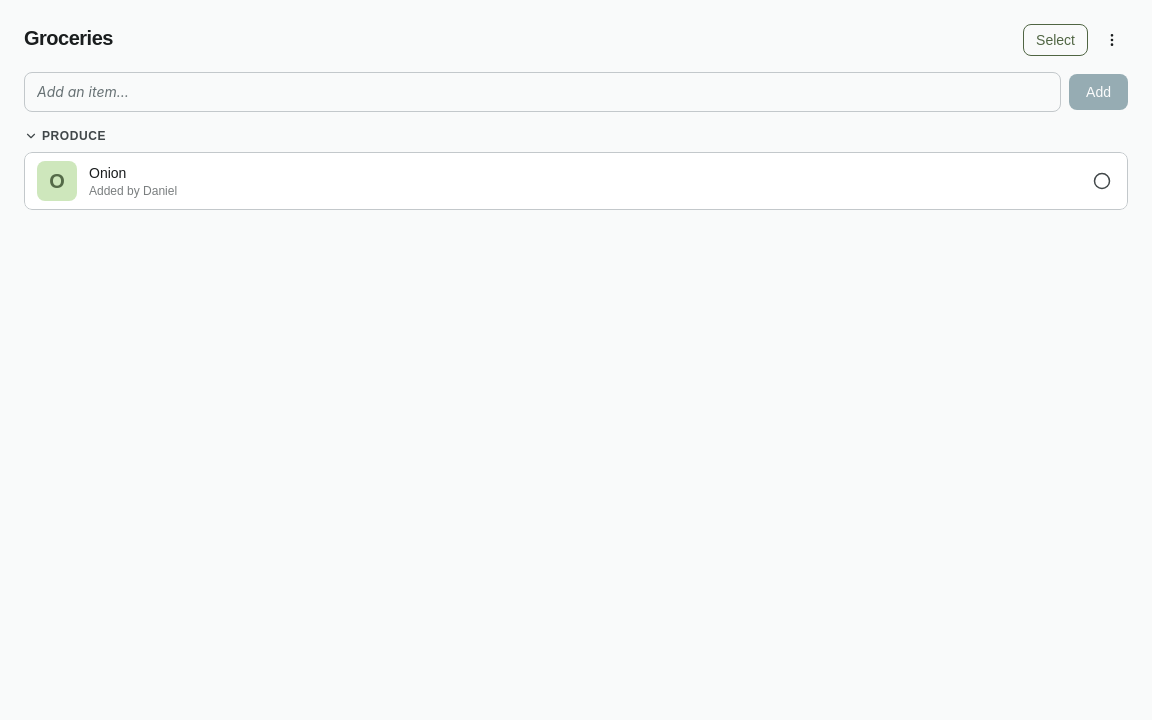
Scenario: ShoppingListPage — the edit sheet's Sources block › leaves a manually added source as plain text
Click the button with test id "shopping-item-edit-btn".
click(108, 173)  # box [89, 163, 1077, 199]
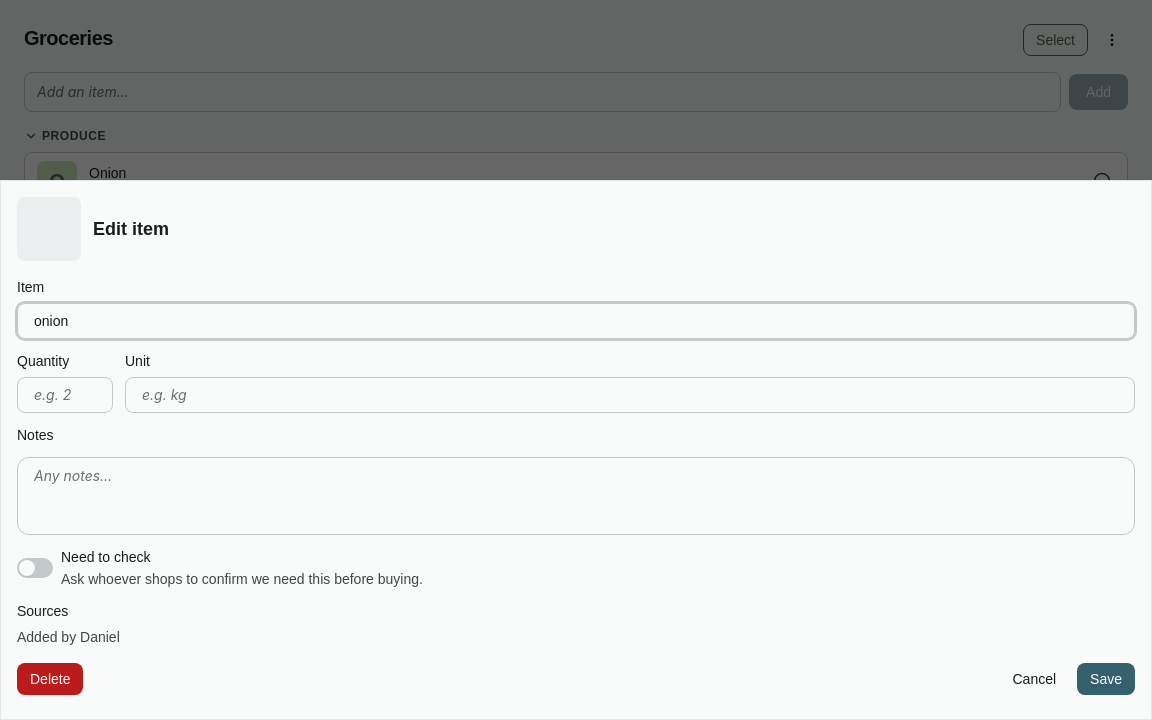
Now the element with test id "shopping-edit-sources" shows "Added by Daniel", box [17, 629, 120, 645]
